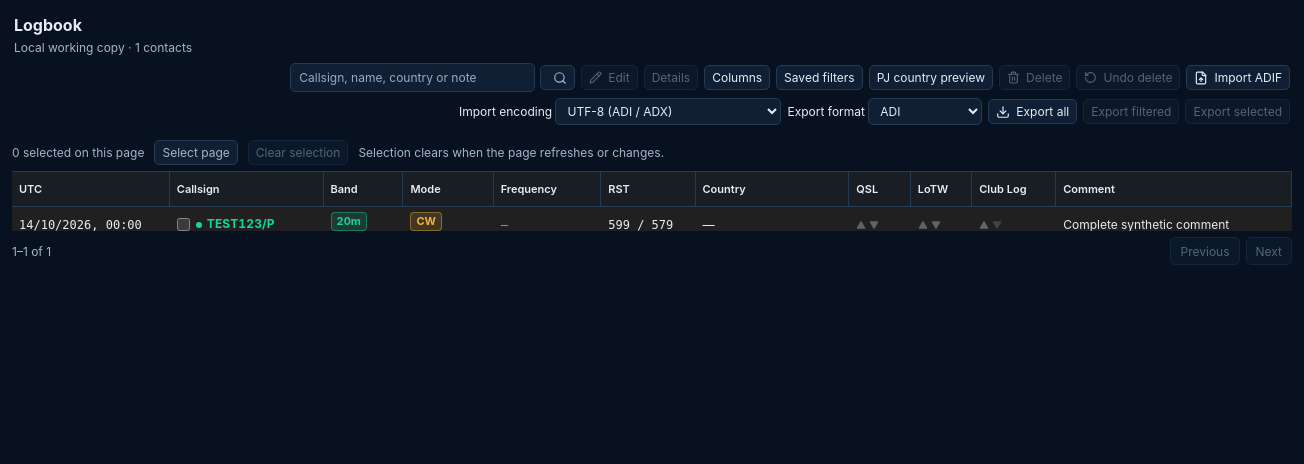
Test case: shared Logbook column controls › commits numeric drafts on blur, never treating blank input as zero
The image size is (1304, 464).
Expected: the text "TEST123/P" is shown, [170,207,324,231]
Click the button "Columns": click(737, 78) [704,65,770,90]
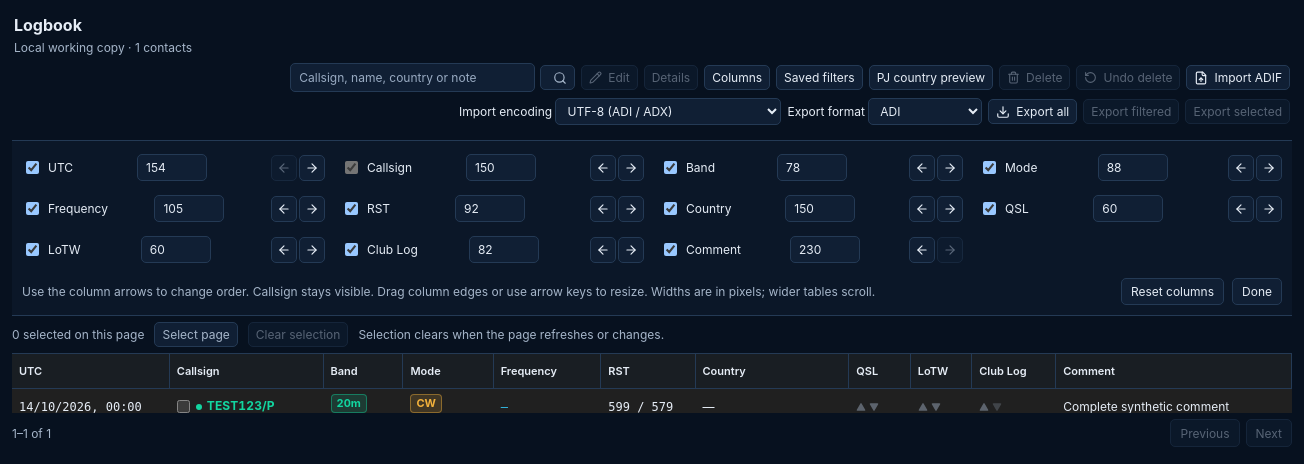
Clear the number field named "Comment column width": (825, 250) [790,236,860,263]
Leave the number field named "Comment column width", box [790,236,860,263]
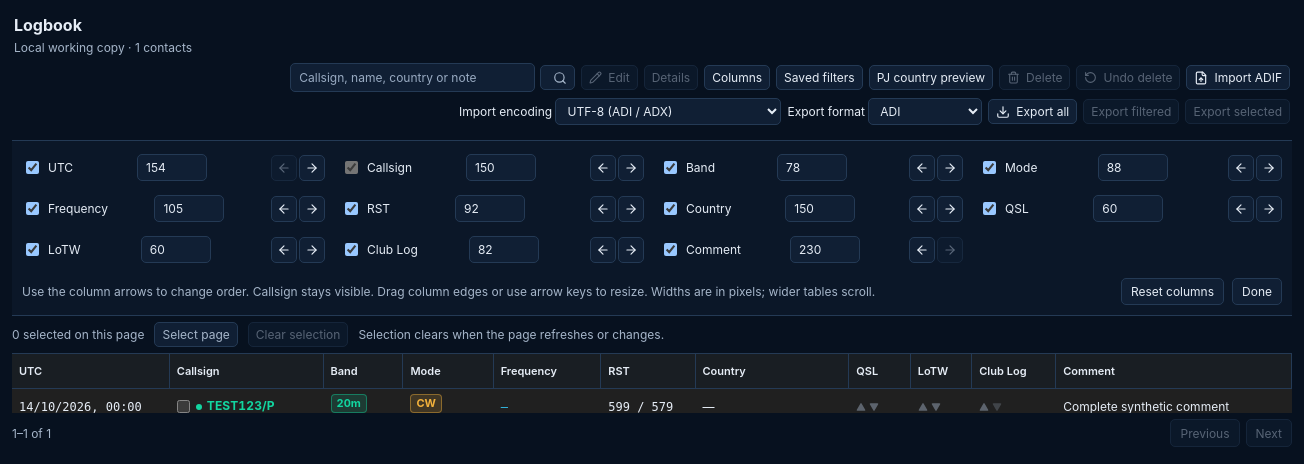
Expected: the number field named "Comment column width" holds "230"
Replace the text in the number field named "Comment column width" with "999": (825, 250) [790,236,860,263]
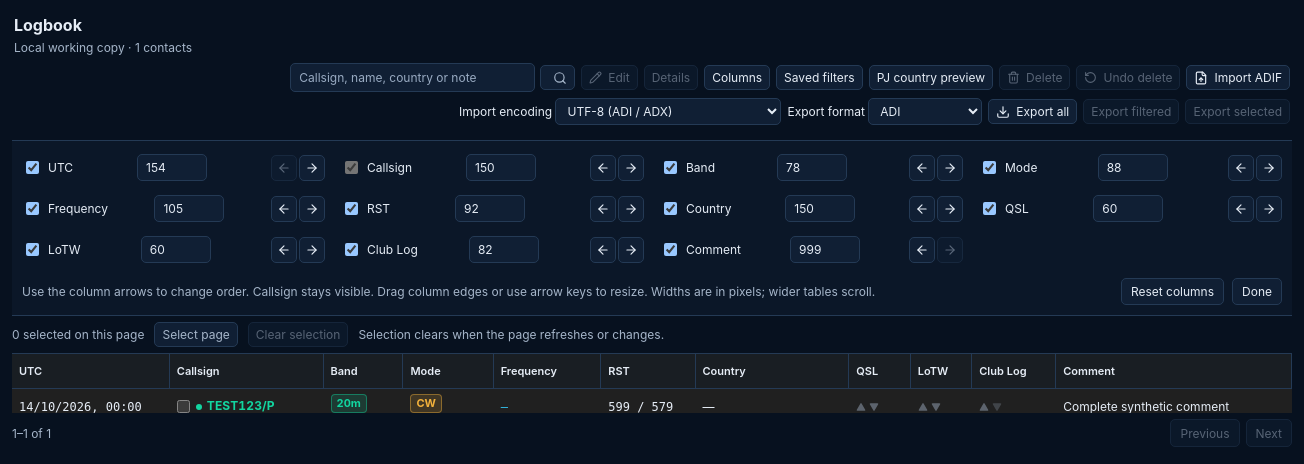
Leave the number field named "Comment column width", box [790,236,860,263]
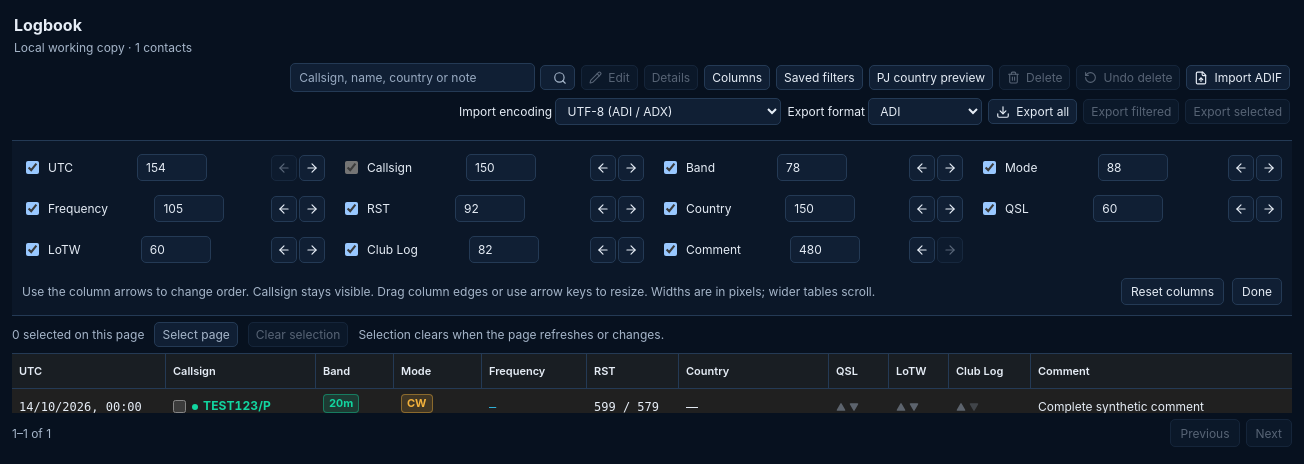
Expected: the number field named "Comment column width" holds "480"
Replace the text in the number field named "Comment column width" with "1": (825, 250) [790,236,860,263]
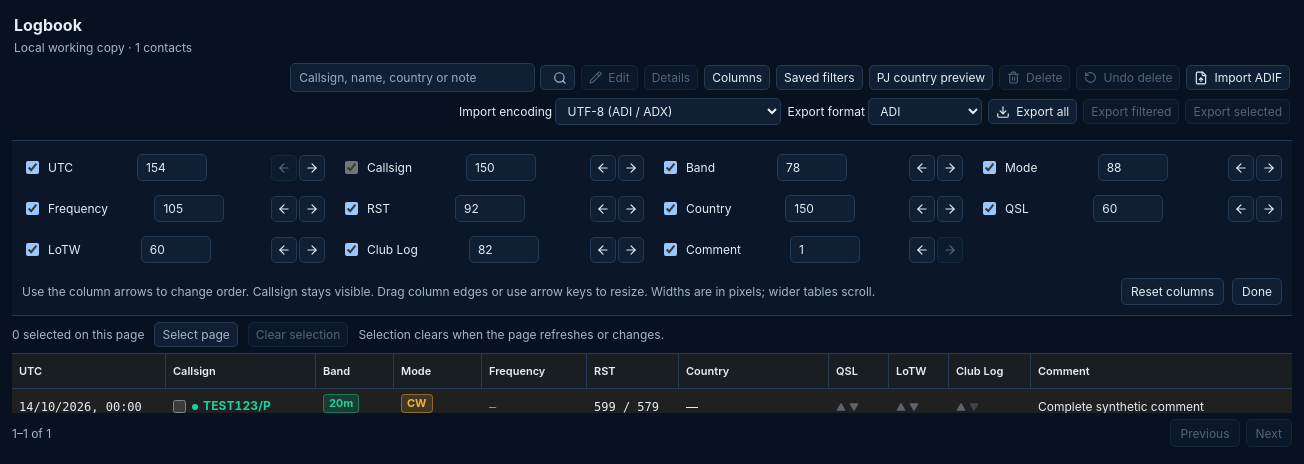
Leave the number field named "Comment column width", box [790,236,860,263]
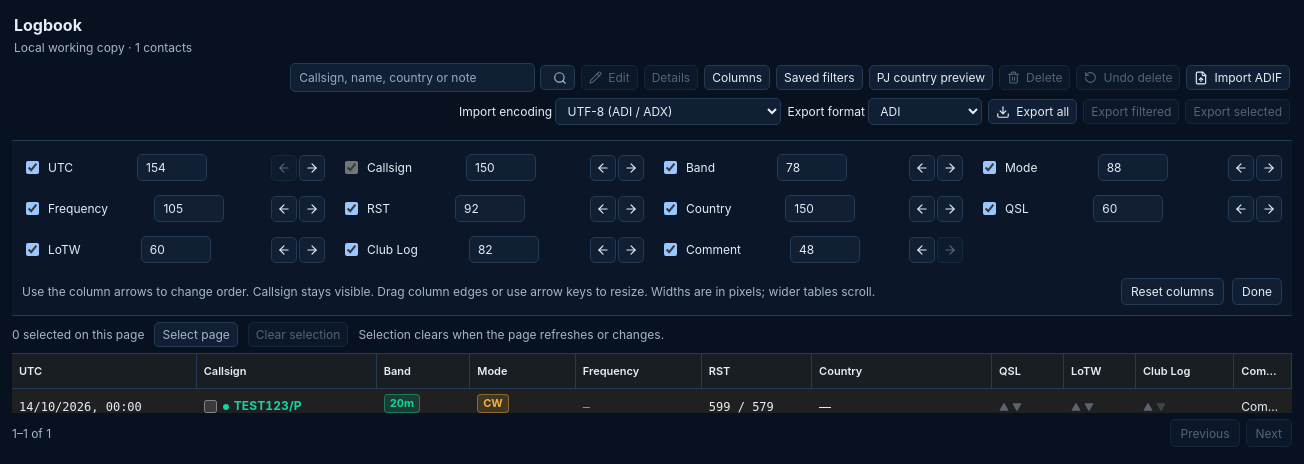
Expected: the number field named "Comment column width" holds "48", [790,236,860,263]
